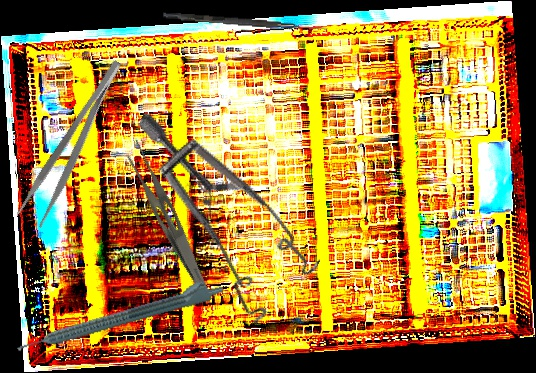Dressing Forceps: (14, 57, 138, 229), (115, 138, 230, 303)
Handpiece: (12, 272, 226, 357)
Hook Surgical: (162, 12, 328, 32)
Speculum: (84, 110, 348, 338)
